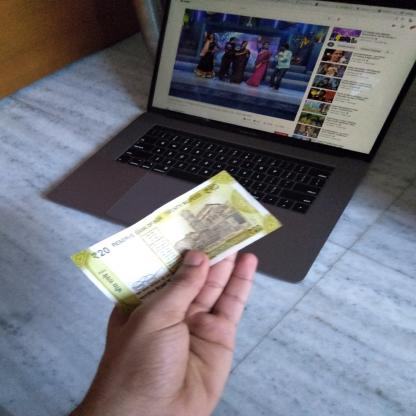New20Back: (95, 183, 257, 302)
